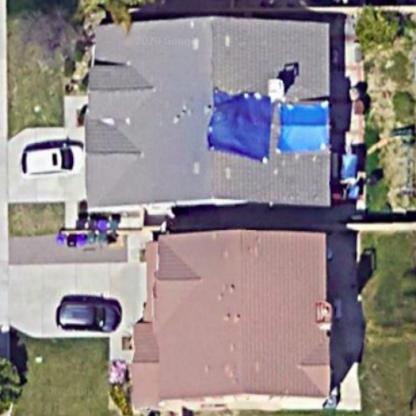car: (53, 287, 127, 339), (19, 140, 87, 180)
